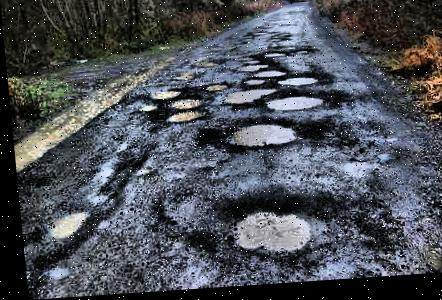pothole: (216, 199, 318, 260), (218, 121, 300, 153), (259, 94, 325, 117), (41, 209, 87, 239), (219, 89, 276, 109), (162, 111, 207, 126), (272, 77, 318, 91), (164, 100, 201, 113), (146, 90, 181, 102), (233, 65, 269, 75), (174, 70, 194, 86), (250, 72, 283, 81), (195, 61, 219, 72), (261, 53, 286, 62), (133, 106, 157, 115), (202, 85, 226, 93), (294, 51, 308, 61)
